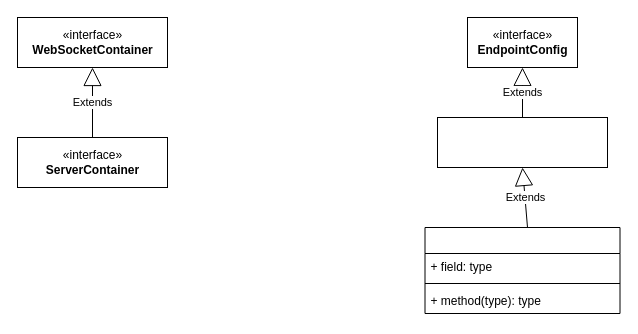
This 638x334 diagram has some shape labels left out. Each missing label, with the box of its shape:
DefaultServerEndpointConfig: (424, 226, 620, 314)
«interface» ServerEndpointConfig: (436, 116, 608, 168)
